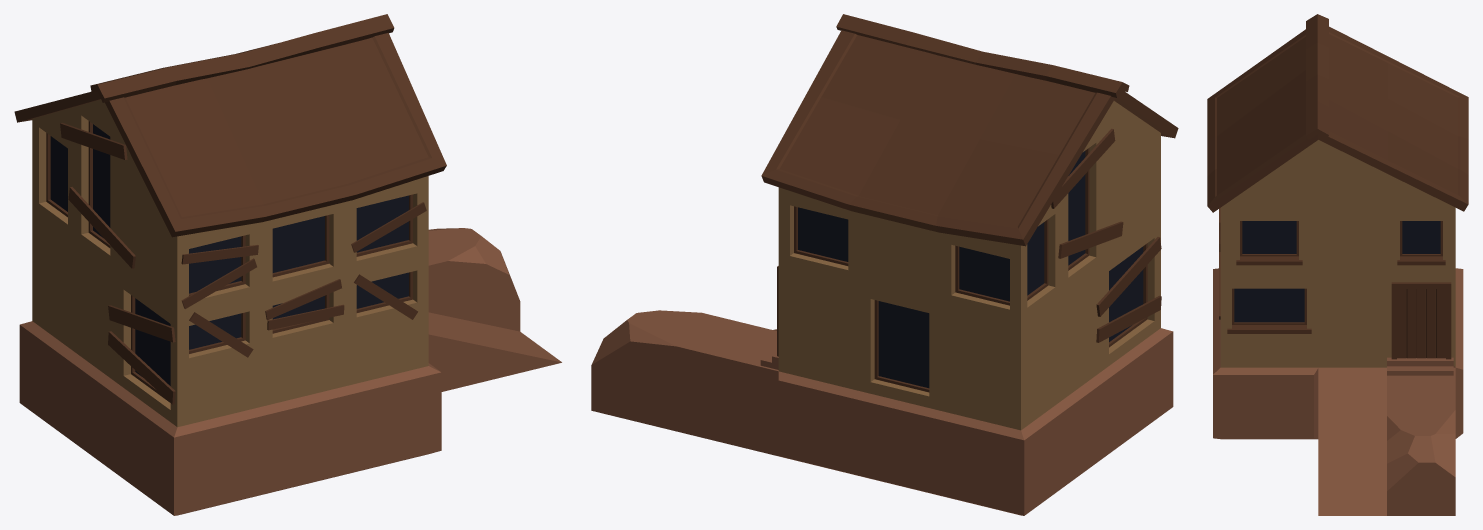
Rendered from LPWarPack_Building1.fbx.
3 renders of one model, left to right at view 1: azimuth 30°, elevation 25°; view 2: azimuth 150°, elevation 25°; view 3: azimuth 270°, elevation 25°, orthographic. The views are drawn at different scales.
Parts seen in each view (by area): view 1: Building1; view 2: Building1; view 3: Building1.
Boxes of the visible parts, x1,y1,x2,y2 form: Building1: (14,14,561,515); Building1: (591,14,1178,515); Building1: (1207,14,1468,515).
Bounding box in the file's own units: 1486 × 1195 × 890.
